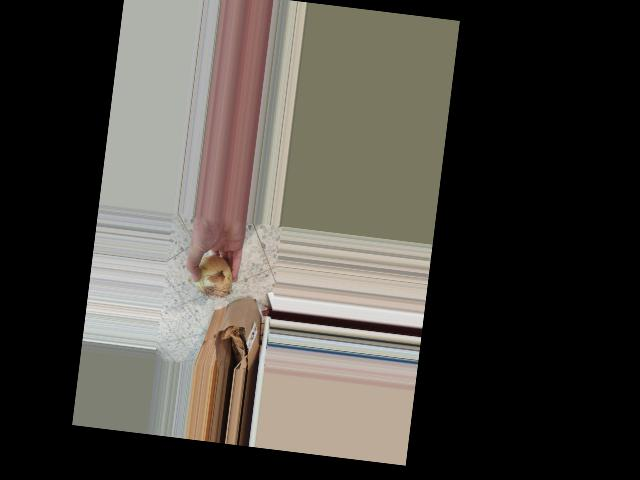onion: (185, 248, 236, 300)
